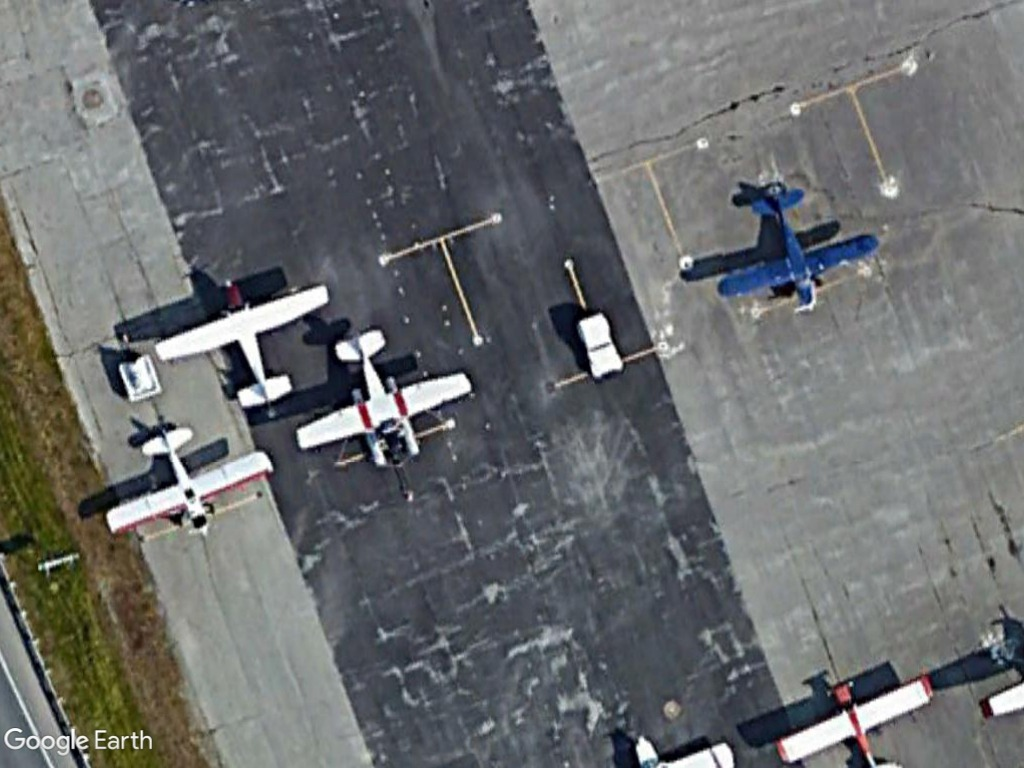trainer: (287, 326, 476, 469), (149, 273, 335, 418), (89, 421, 277, 545), (715, 184, 883, 319)
